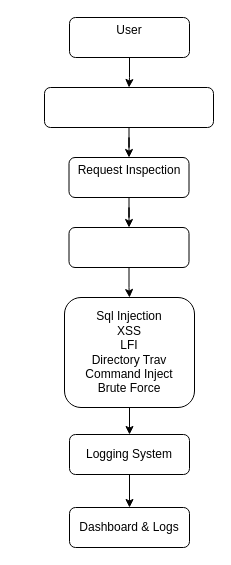
The diagram is 231 pixels wide and 565 high, and some of its shapes have lost their labels. The shapes that lost their labels are listed below. From the top down, each one's centre as x and y in pixels, then its label:
(x=129, y=107): Flask Web Interface
(x=128, y=247): Detection Engine
